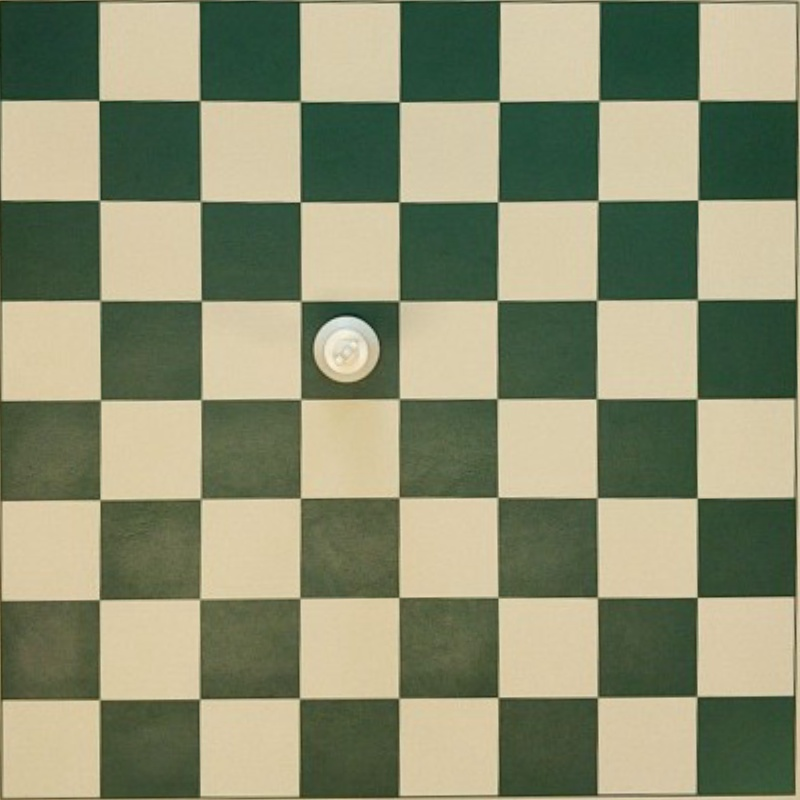white-king: (313, 315, 380, 383)
